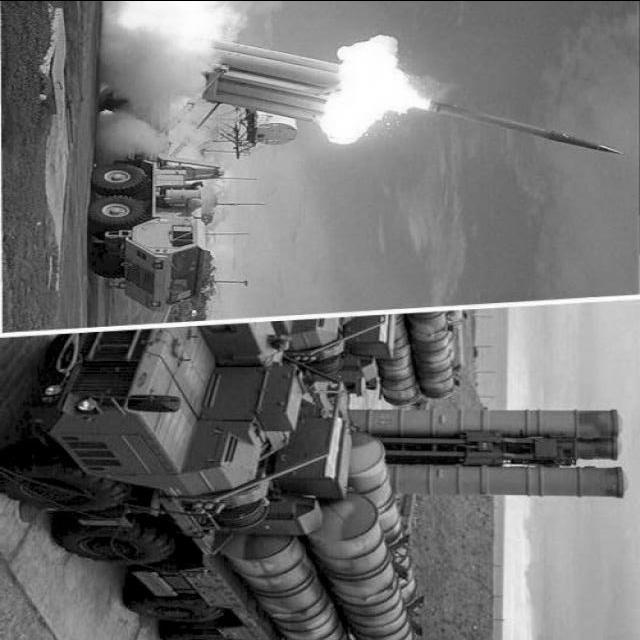Missile: (421, 91, 627, 157)
